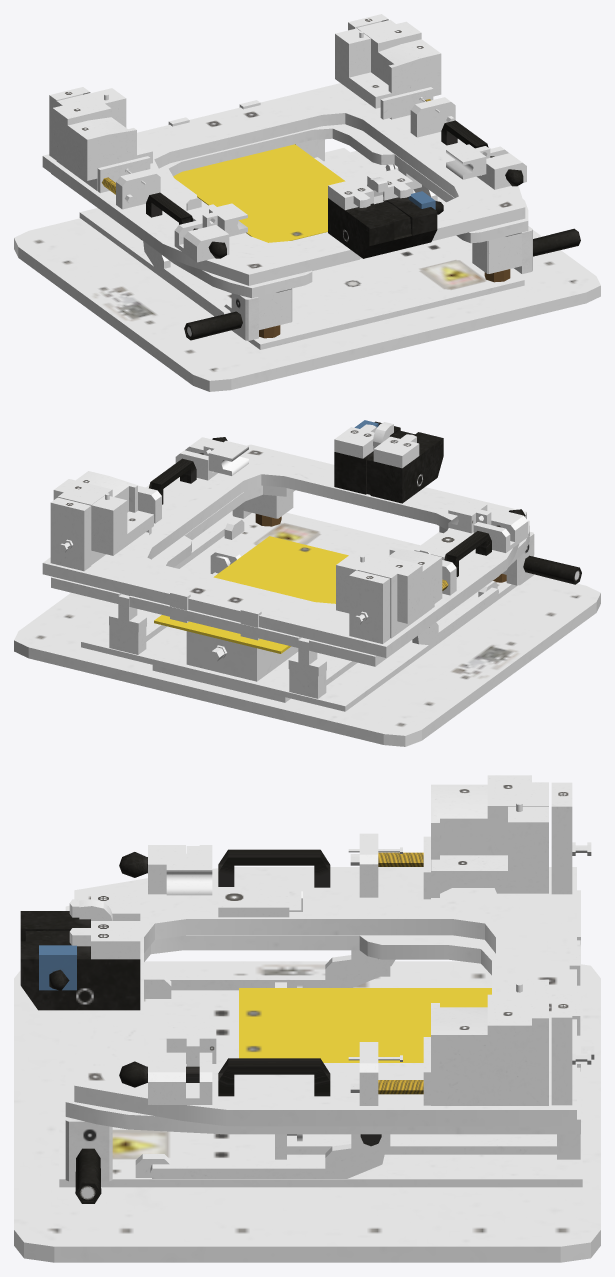
File: zuoqi01.FBX
The picture shows the model from 3 angles, top to bottom: view 1: azimuth 30°, elevation 25°; view 2: azimuth 150°, elevation 25°; view 3: azimuth 270°, elevation 25°; orthographic projection. The views are drawn at different scales.
Parts seen in each view (by area): view 1: YF_Model_zuoqi01; view 2: YF_Model_zuoqi01; view 3: YF_Model_zuoqi01.
Boxes of the visible parts, box(x1,y1,x2,y2) form: YF_Model_zuoqi01: box(14, 14, 600, 391); YF_Model_zuoqi01: box(14, 420, 600, 746); YF_Model_zuoqi01: box(14, 775, 600, 1262).
Size of the model in its own units: 93.75 by 34.61 by 81.51.
